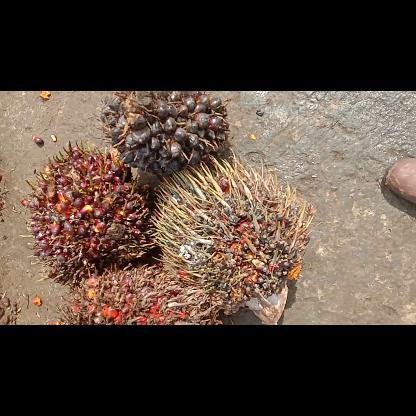TBS abnormal: (148, 156, 316, 324)
TBS masak: (20, 141, 150, 279)
TBS mentah: (100, 91, 228, 175)
Terlalu masak: (56, 268, 218, 324)
